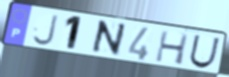1: (62, 15, 83, 54)
4: (126, 25, 151, 62)
H: (154, 29, 191, 66)
J: (31, 14, 60, 48)
N: (88, 19, 128, 58)
U: (187, 34, 222, 70)
